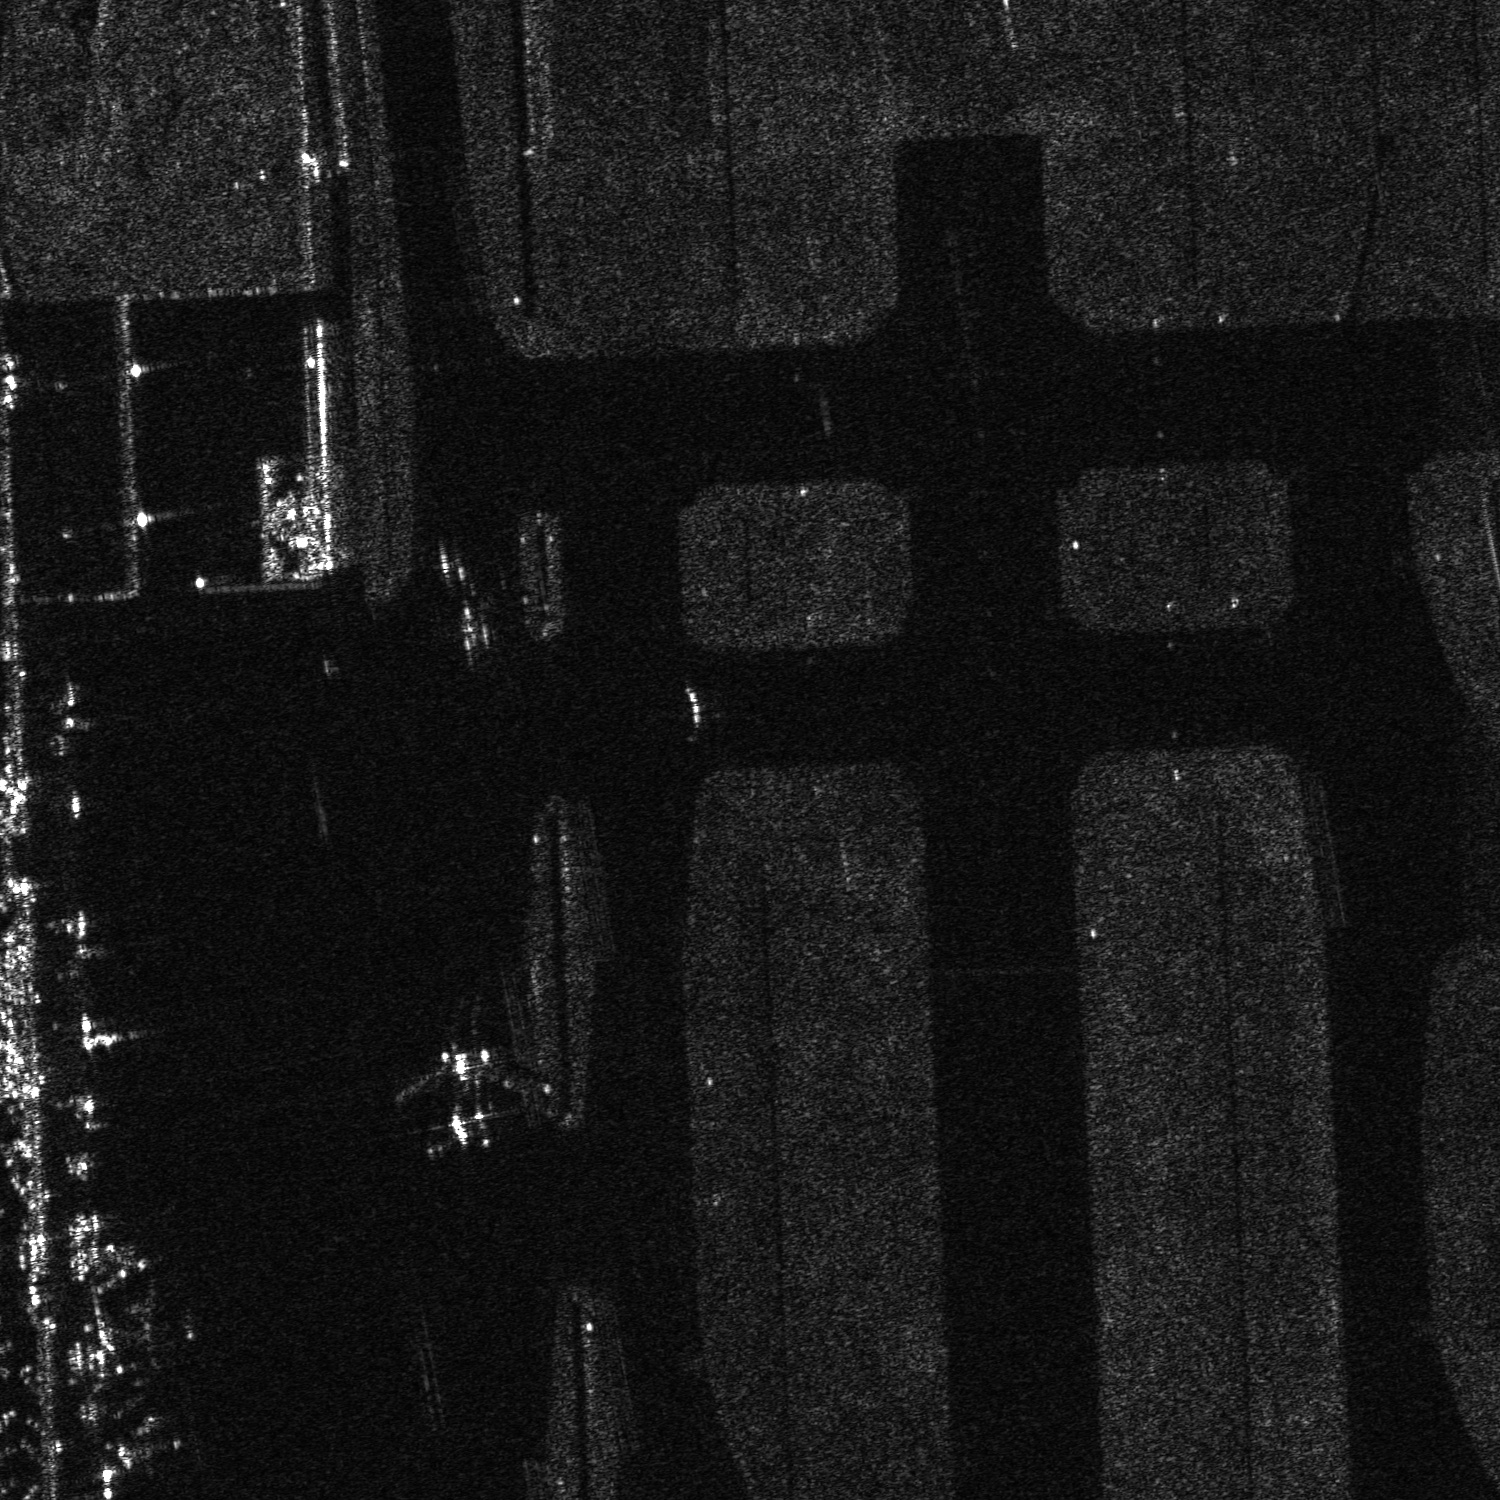A220: (95, 1286, 202, 1374)
other: (387, 1023, 523, 1158), (98, 1405, 190, 1473)
